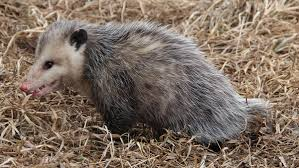opossum: (22, 20, 274, 140)
